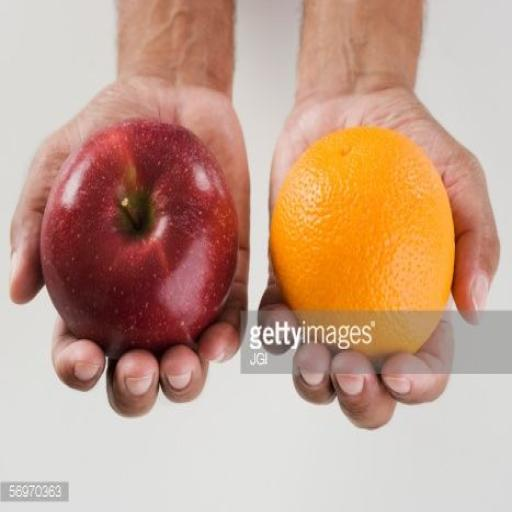apple: (41, 120, 237, 357)
orange: (270, 127, 454, 355)
